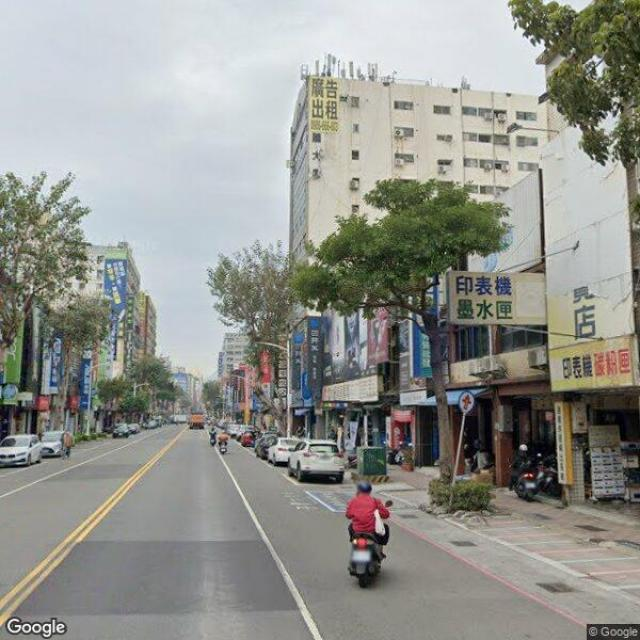Legalparking: (233, 414, 349, 478), (116, 408, 160, 437)
illegalparking: (1, 420, 79, 471), (511, 449, 569, 507)
